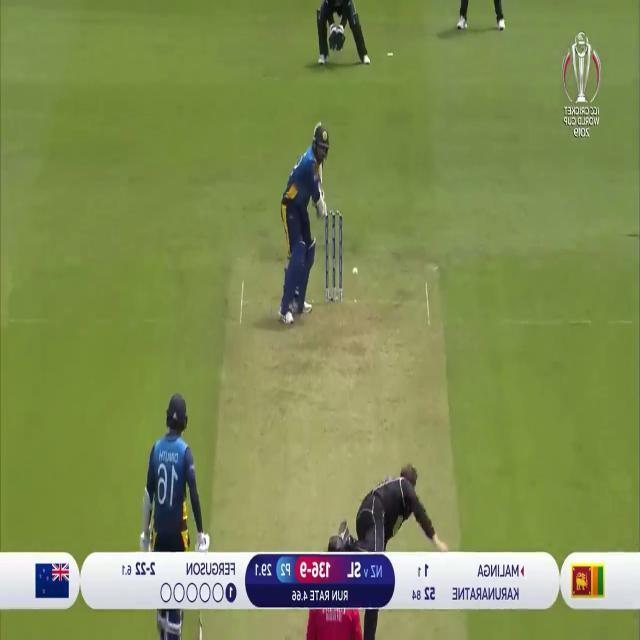ball: (346, 253, 364, 287)
